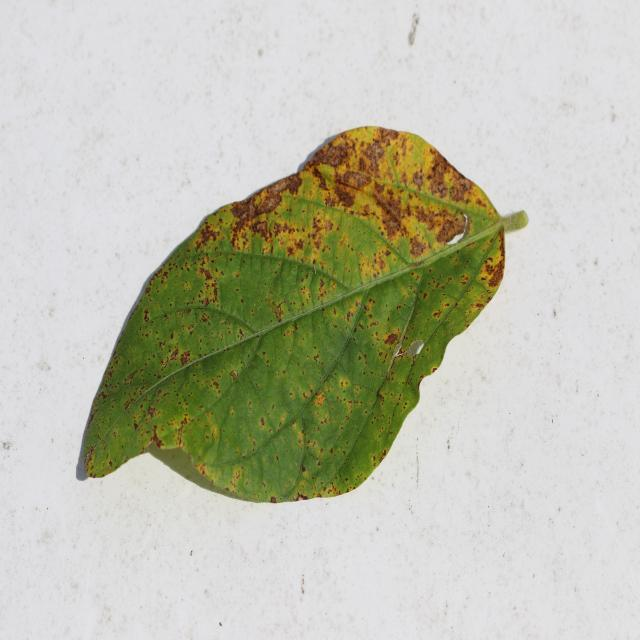Bacterial_Blight: (239, 370, 286, 441), (374, 187, 410, 250), (304, 207, 344, 254), (331, 176, 362, 209), (282, 313, 312, 346), (229, 216, 255, 251), (194, 220, 222, 252), (445, 175, 472, 204), (197, 277, 219, 308), (255, 191, 281, 216), (271, 220, 296, 245), (435, 219, 457, 244), (486, 257, 503, 288), (430, 178, 449, 199), (231, 465, 246, 491), (149, 424, 164, 448), (322, 480, 339, 496), (383, 331, 400, 346), (317, 279, 328, 298), (412, 171, 423, 188), (179, 351, 191, 366), (365, 297, 377, 312), (314, 391, 325, 406), (274, 307, 285, 322), (201, 268, 213, 281), (211, 380, 220, 394), (294, 492, 308, 501), (460, 274, 469, 287), (180, 415, 189, 427), (423, 342, 431, 355), (147, 405, 156, 416), (229, 369, 238, 380), (252, 195, 261, 206), (143, 308, 150, 322), (432, 309, 441, 319), (100, 391, 108, 401), (418, 374, 425, 385), (238, 328, 244, 338), (200, 465, 206, 475), (133, 421, 139, 430), (346, 312, 352, 321), (372, 454, 377, 463), (112, 430, 117, 439), (186, 308, 192, 315), (432, 367, 438, 374), (270, 496, 276, 503), (329, 447, 334, 455), (382, 449, 387, 457), (354, 301, 359, 308), (262, 481, 267, 488), (265, 358, 269, 366), (205, 434, 210, 440), (108, 460, 112, 467), (262, 351, 266, 357), (240, 298, 244, 304), (282, 369, 286, 375), (312, 259, 316, 264)
Soybean: (75, 126, 528, 506)
